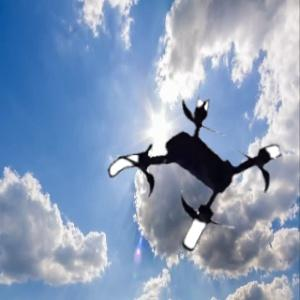drone: (106, 90, 283, 267)
